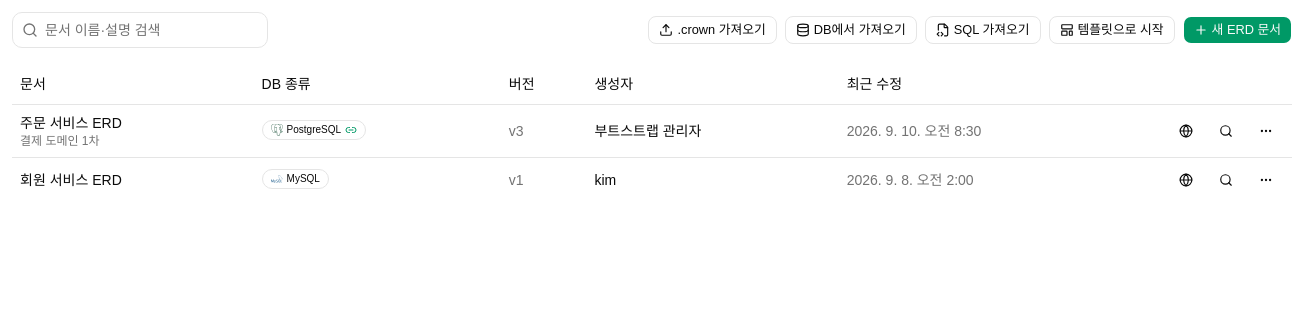
Test: ERD 탭 › shows the connect action only for unconnected documents
Expected: the button "주문 서비스 ERD" is shown, [20,112,122,132]
Click the button named "회원 서비스 ERD 문서 작업" at (1266, 180), box [1248,166,1284,194]
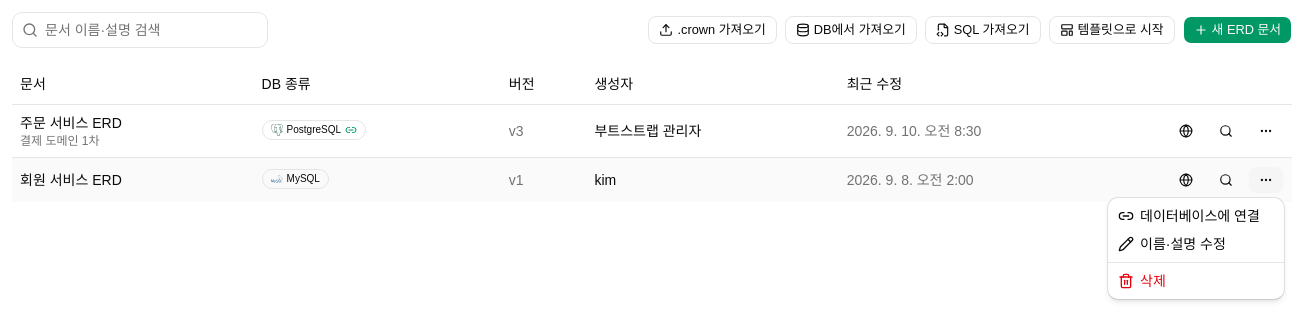
Expected: the menu item "데이터베이스에 연결" is shown, [1118,208,1260,224]
Press Escape
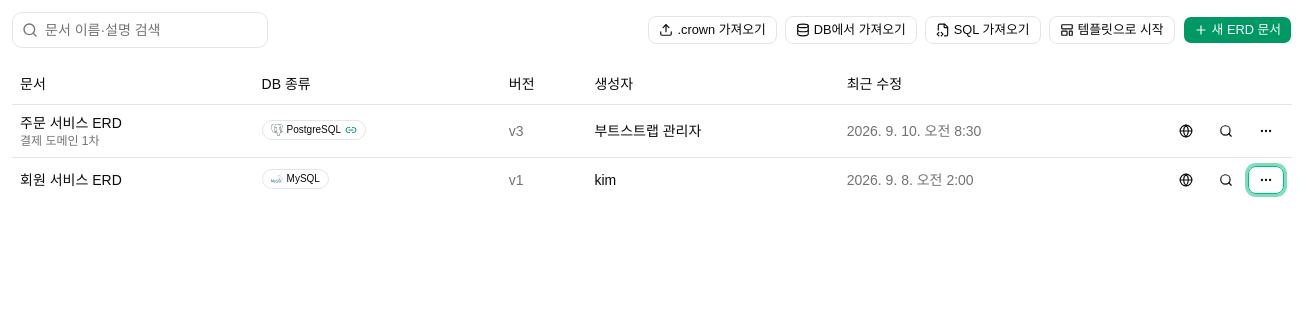
Click the button named "주문 서비스 ERD 문서 작업" at (1266, 130), box [1248,116,1284,144]
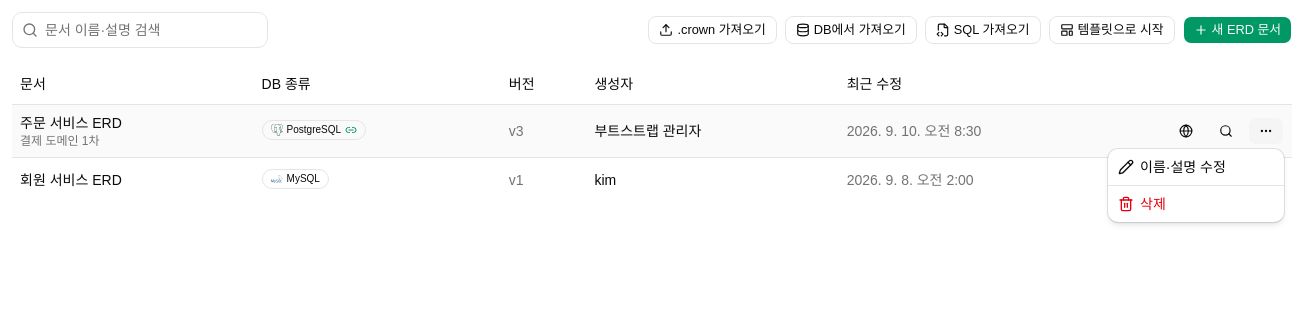
Expected: the menu item "데이터베이스에 연결" is not shown
Expected: the menu item "이름·설명 수정" is shown, [1118,159,1226,175]
